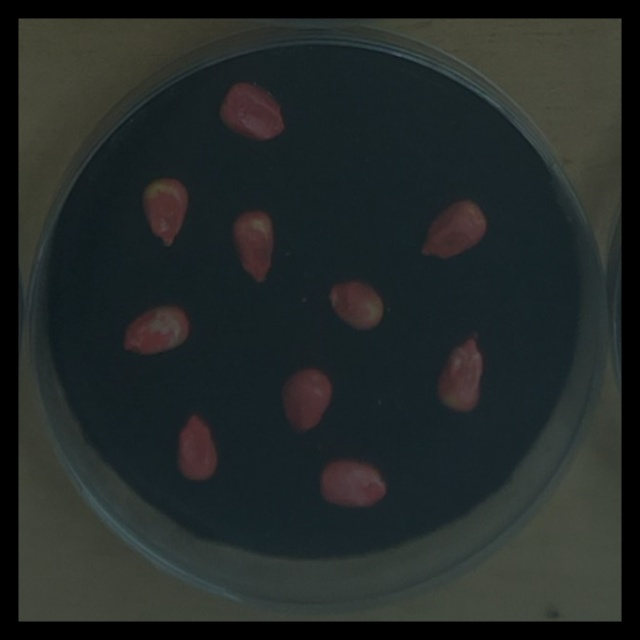Zea mays: (210, 74, 290, 148), (414, 194, 493, 265), (429, 327, 488, 419), (273, 362, 338, 442), (114, 298, 195, 362), (312, 452, 393, 515), (134, 171, 195, 253), (224, 205, 281, 289), (320, 272, 391, 336), (169, 407, 225, 487)
